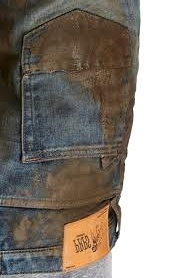earth: (41, 29, 131, 72), (57, 165, 105, 208), (11, 210, 61, 242), (101, 74, 132, 123)
